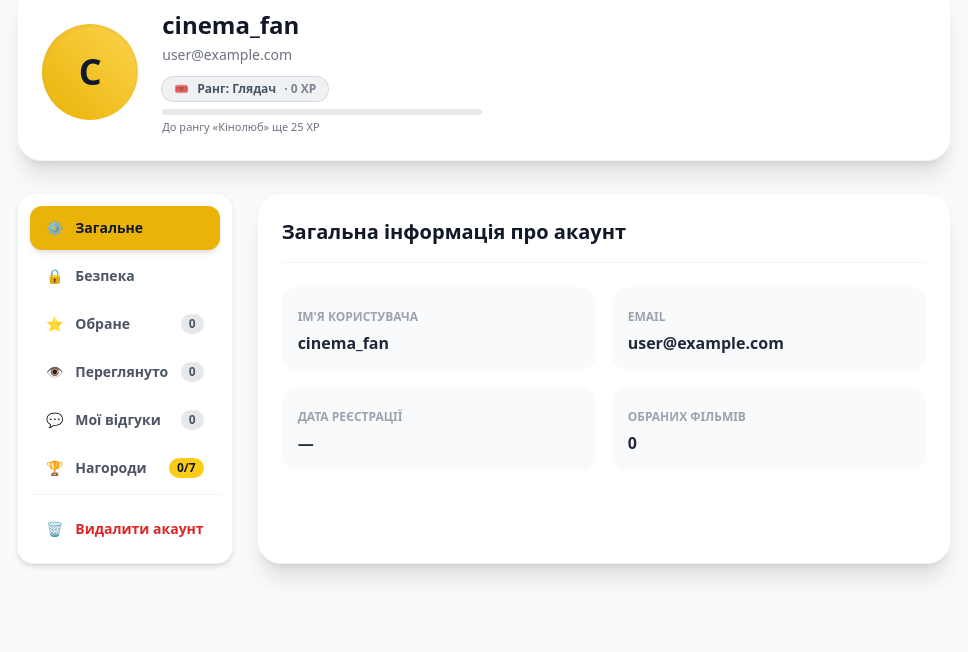
Test: UserProfile account settings › does not claim success when the server refuses
This screenshot has width=968, height=652.
Click the button "🔒 Безпека". click: (125, 276)
box: [30,254,220,298]
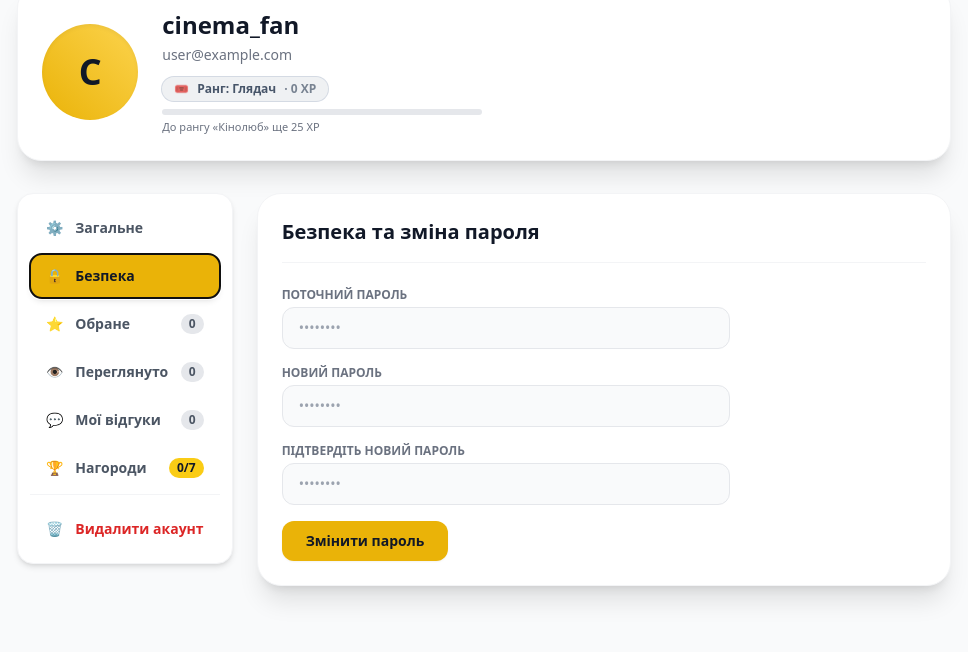
Type "wrong" into the password field labelled "Поточний пароль". click: (506, 328)
box: [282,306,730,348]
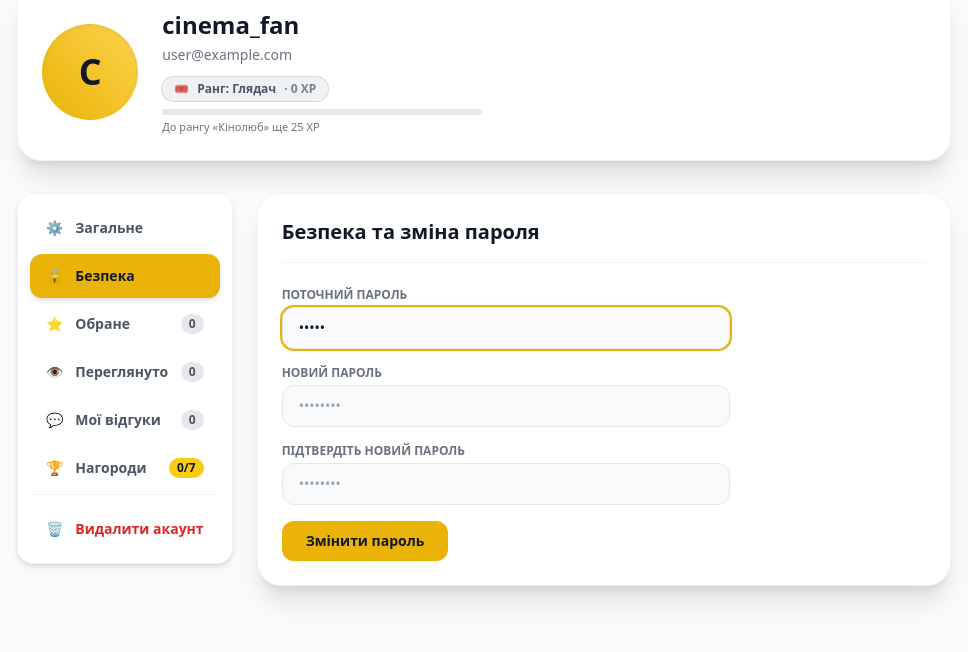
Type "NewPass456" into the password field labelled "Новий пароль". click: (506, 406)
box: [282,384,730,426]
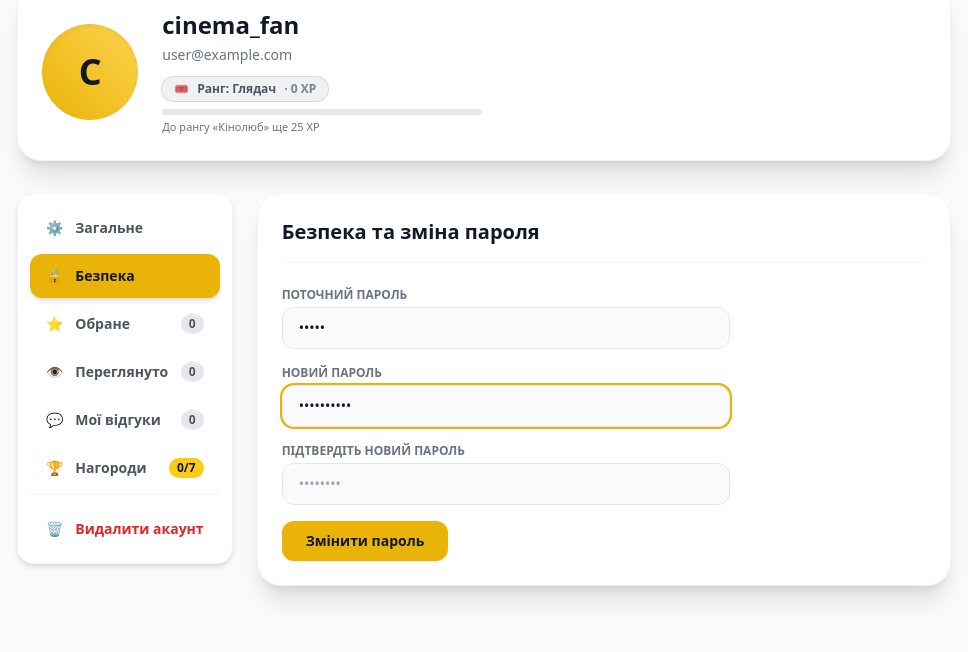
Type "NewPass456" into the password field labelled "Підтвердіть новий пароль". click: (506, 484)
box: [282,462,730,504]
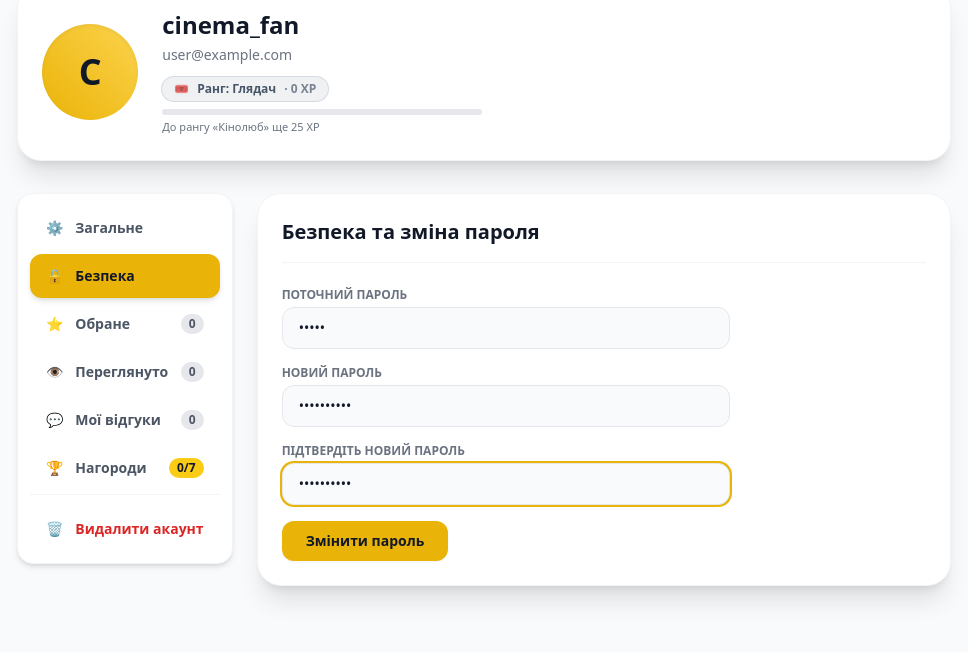
Click the button "Змінити пароль". click: (365, 540)
box: [282,520,448,560]
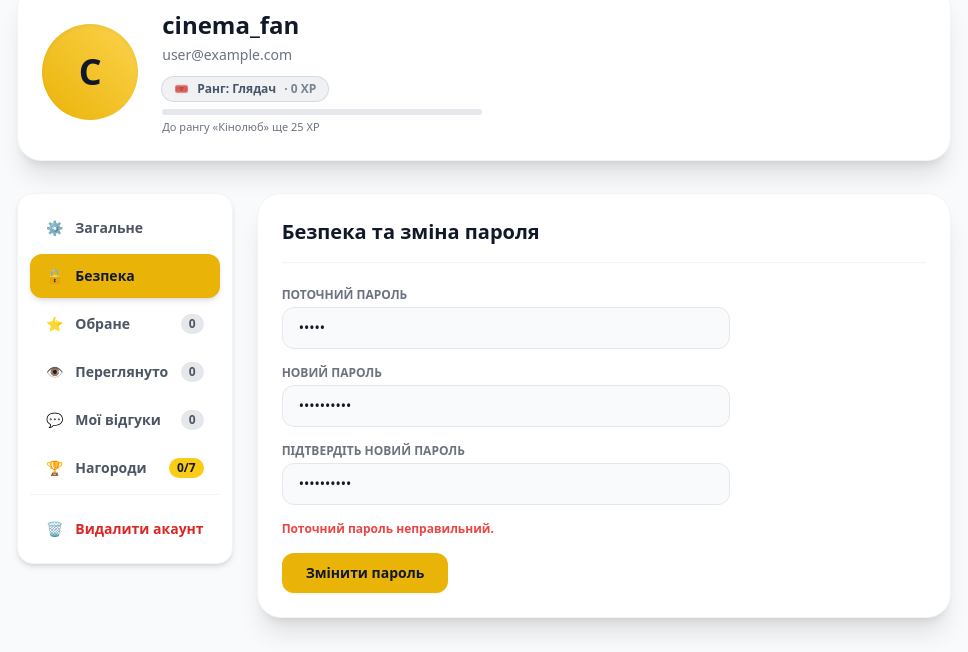
Now the message reads "Поточний пароль неправильний.", box [282,520,494,536]
